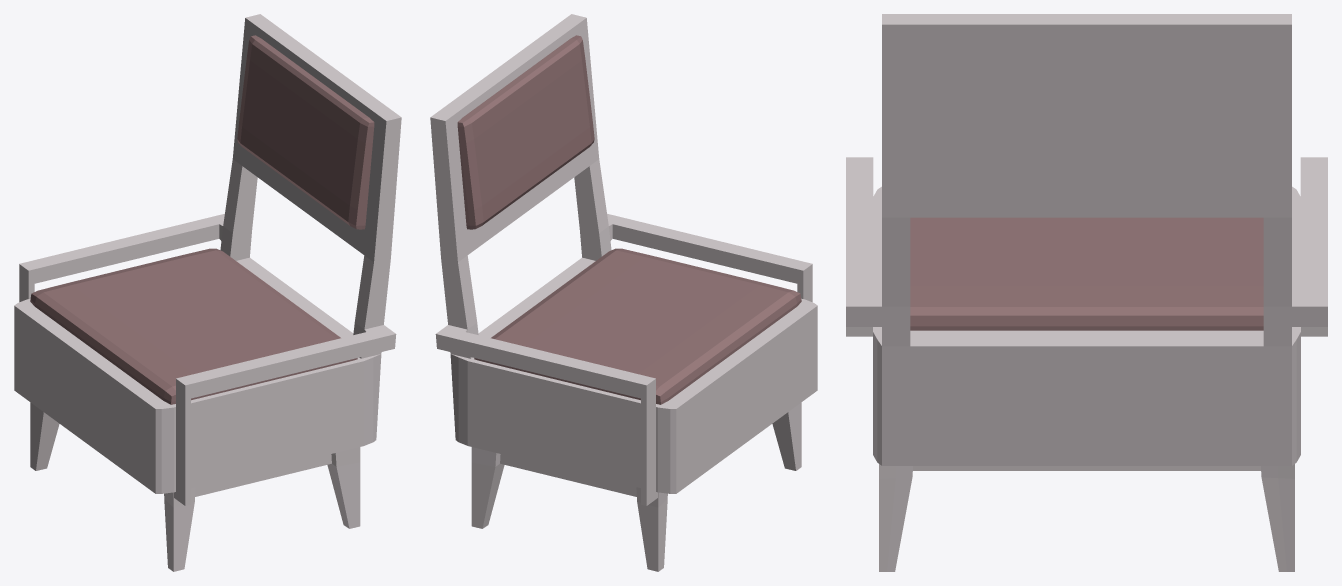
Rendered from BasicArmChair.fbx.
The picture shows the model from 3 angles, left to right: view 1: azimuth 30°, elevation 25°; view 2: azimuth 150°, elevation 25°; view 3: azimuth 270°, elevation 25°; orthographic projection. The views are drawn at different scales.
Parts seen in each view (by area): view 1: BasicArmchair; view 2: BasicArmchair; view 3: BasicArmchair.
Part boxes in pixels (bbox=[...]): BasicArmchair: bbox=[14, 14, 401, 571]; BasicArmchair: bbox=[430, 14, 817, 571]; BasicArmchair: bbox=[846, 14, 1327, 571].
Bounding box in the file's own units: 72.77 × 112 × 85.02.
